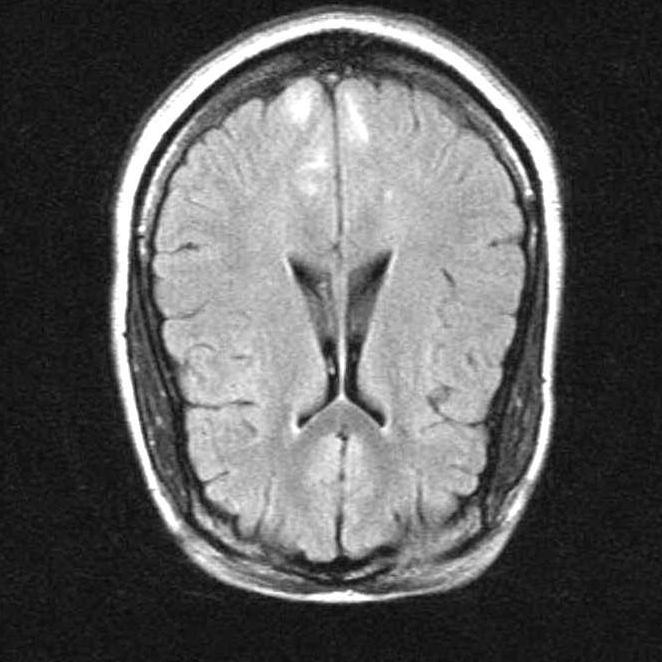Normal_Brain: (35, 8, 652, 627)
